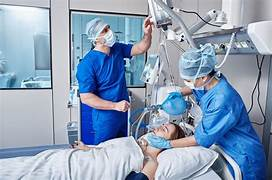Doctor: (81, 16, 132, 91), (178, 47, 222, 116)
patient: (137, 118, 182, 168)
